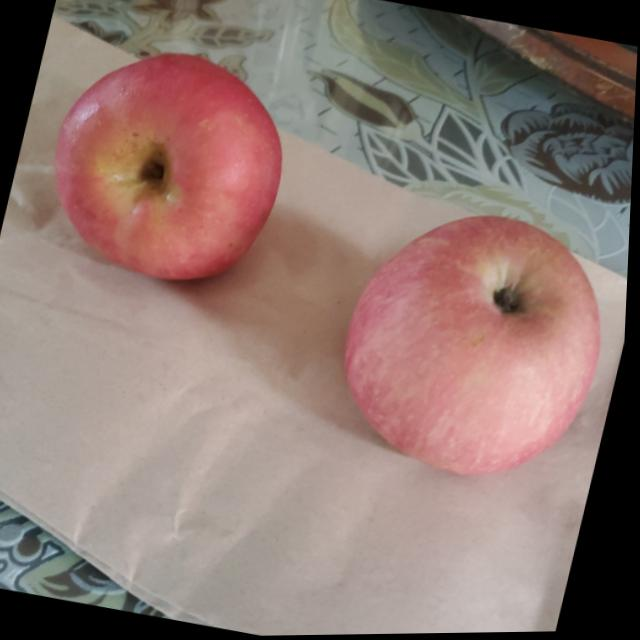apple: (319, 189, 630, 494), (31, 28, 308, 294)
